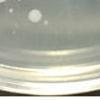red: (28, 8, 42, 24), (0, 0, 6, 4)
